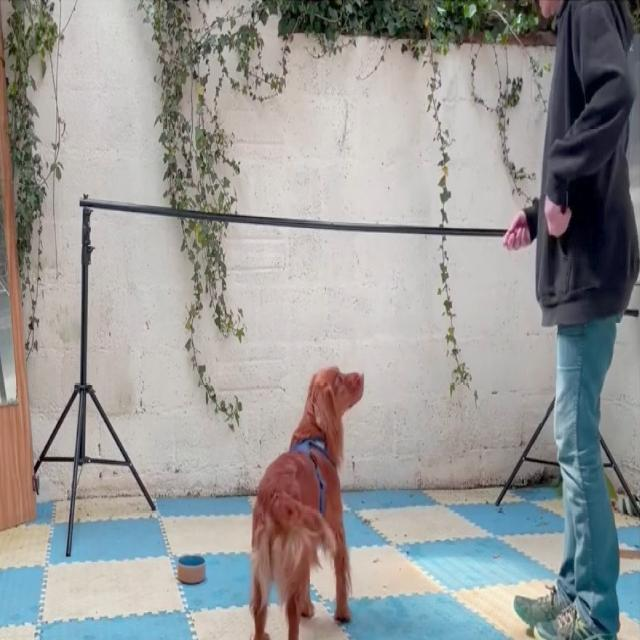Unleashed_Dog: (250, 365, 601, 640)
